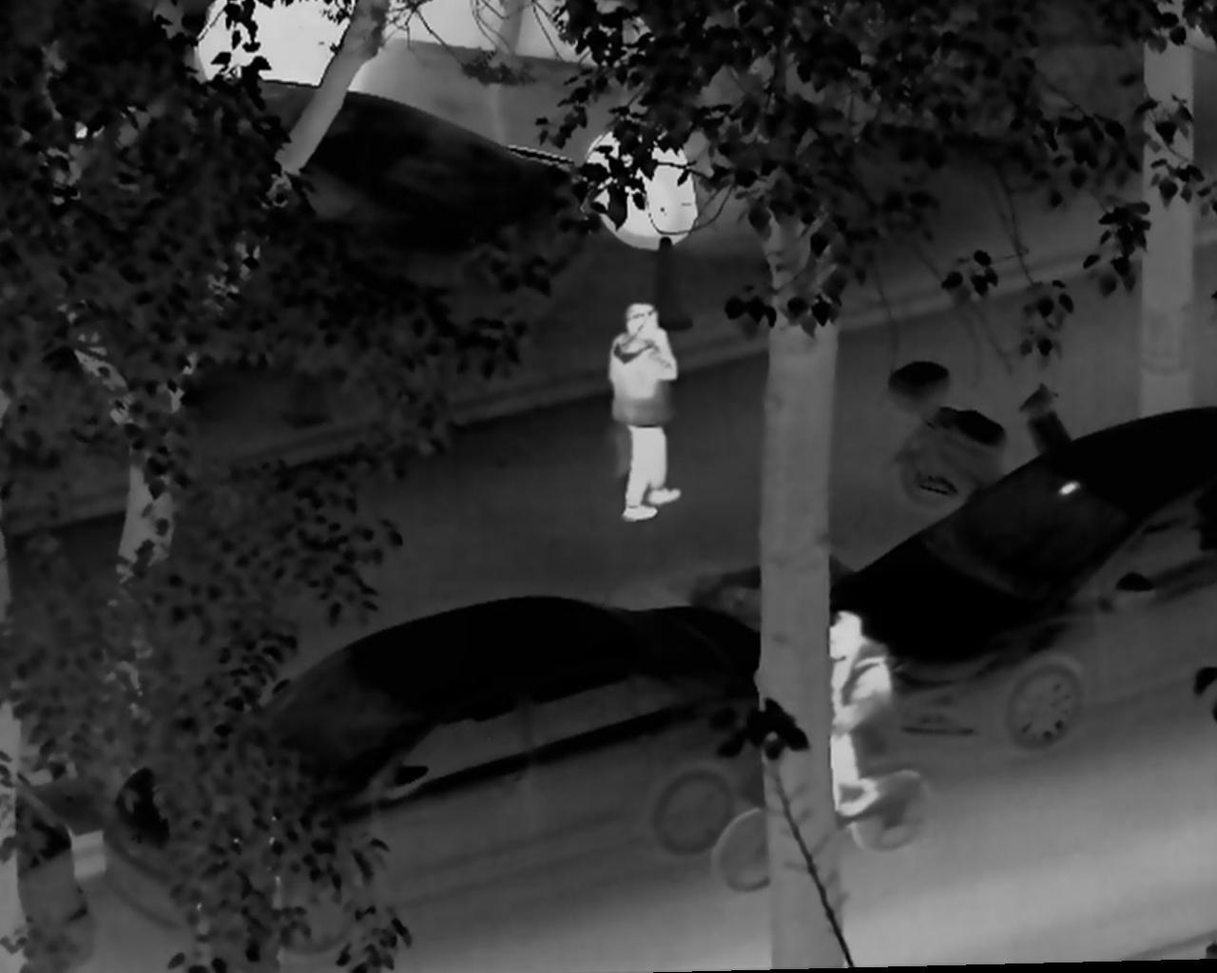person: (597, 297, 693, 538), (802, 610, 900, 830)
